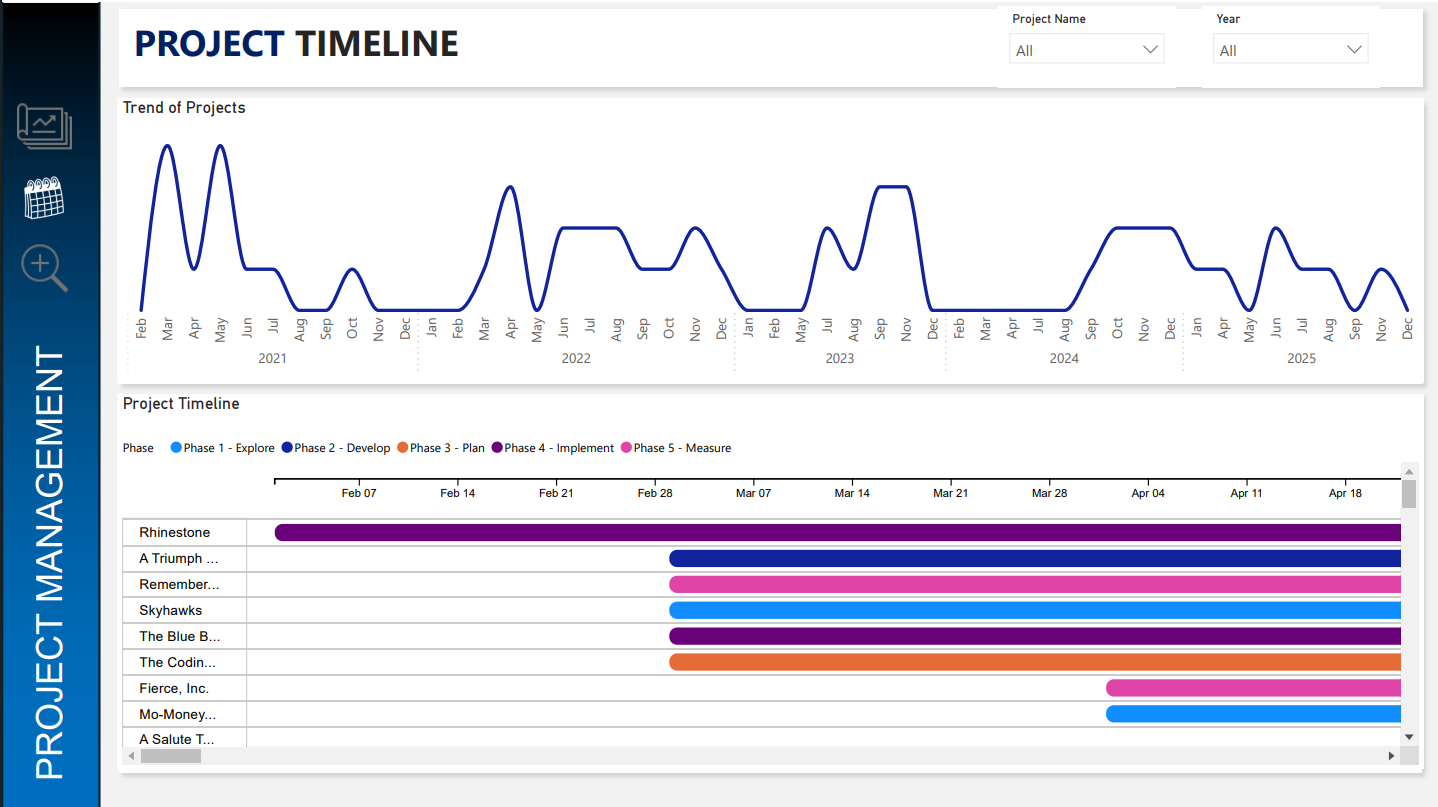

This screenshot's page, from the dashboard's own definition file:
{"tool":"powerbi","page":{"name":"PROJECT TIMELINE","canvas":[1280,720],"ordinal":1},"visuals":[{"type":"slicer","fields":{"Values":["Data.Project Name"]},"box":[885.1,3,158.2,71.6],"z":0},{"type":"slicer","fields":{"Values":["Date Table.Year"]},"box":[1065.7,3,158.2,71.6],"z":1000},{"type":"textbox","box":[113.4,7.5,610.4,61.2],"z":2000},{"type":"lineChart","title":"Trend of Projects","fields":{"Category":["Date Table.Year","Date Table.Month Name"],"Y":["_Measure.Total Projects"]},"box":[103,84.8,1159.9,252.9],"z":3000},{"type":"Gantt1448688115699","title":"Project Timeline","fields":{"Legend":["Data.Phase"],"Completion":["Sum(Data.Completion%)"],"StartDate":["Data.Start Date"],"EndDate":["Min(Data.End Date)"],"Task":["Data.Project Name"]},"box":[103,348.3,1159.9,333.1],"z":4000},{"type":"image","box":[15.1,212,48,48],"z":4001},{"type":"image","box":[15.1,87.8,48,48],"z":4002},{"type":"image","box":[15.1,149.9,48,48],"z":4003}]}

Visuals, with their boxes on the page's 1280x720 design canvas (x1, y1, x2, y2). These are canvas units, not pixel positions in the 1438x807 screenshot, which may show the page scaled, cropped or inside an application window:
slicer - Data.Project Name: {"left": 885, "top": 3, "right": 1043, "bottom": 75}
slicer - Date Table.Year: {"left": 1066, "top": 3, "right": 1224, "bottom": 75}
textbox: {"left": 113, "top": 8, "right": 724, "bottom": 69}
"Trend of Projects" lineChart: {"left": 103, "top": 85, "right": 1263, "bottom": 338}
"Project Timeline" Gantt1448688115699: {"left": 103, "top": 348, "right": 1263, "bottom": 681}
image: {"left": 15, "top": 212, "right": 63, "bottom": 260}
image: {"left": 15, "top": 88, "right": 63, "bottom": 136}
image: {"left": 15, "top": 150, "right": 63, "bottom": 198}
